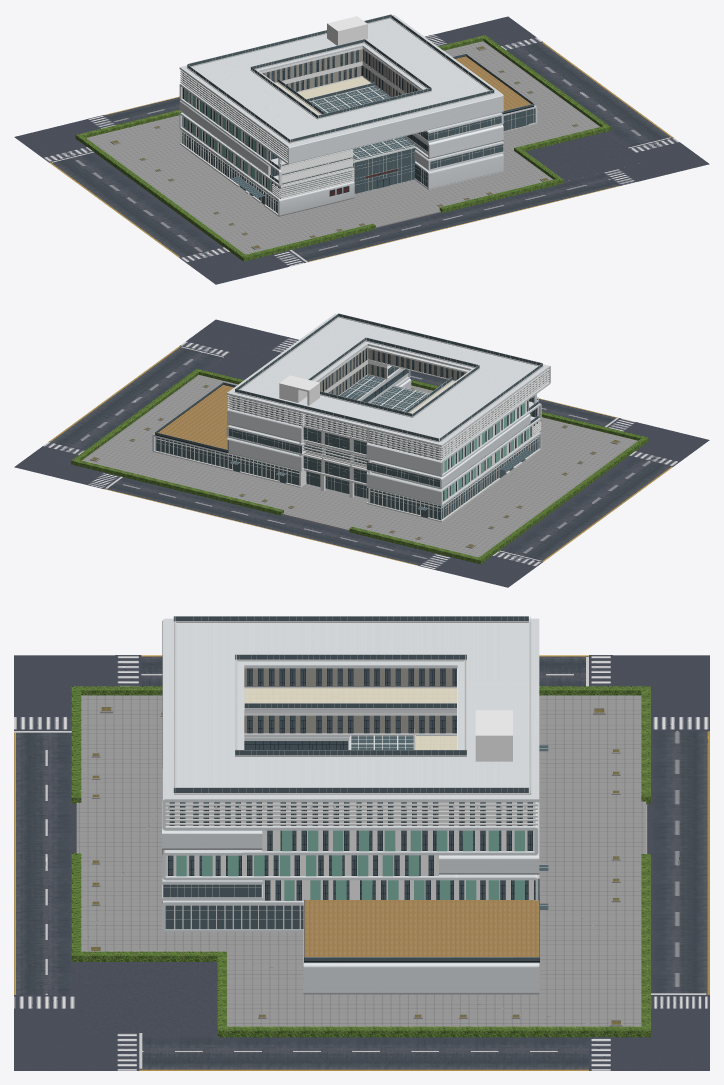
The model's file is Outer.FBX.
3 renders of one model, top to bottom at view 1: azimuth 30°, elevation 25°; view 2: azimuth 150°, elevation 25°; view 3: azimuth 270°, elevation 25°, orthographic. The views are drawn at different scales.
Parts seen in each view (by area): view 1: Outter01, Outter02, Outter11, Outter58, Outter05, Outter09, Outter03, Outter14, Outter07, Object001, Outter08, Outter17 (+8 smaller); view 2: Outter01, Outter02, Outter11, Outter09, Outter58, Outter03, Outter14, Outter07, Outter05, Outter52, Outter18, Outter08 (+7 smaller); view 3: Outter01, Outter02, Outter58, Outter11, Outter05, Outter03, Outter18, Outter14, Object001, Outter09, Outter56, Outter16 (+11 smaller).
Part boxes in pixels (<box>): Outter01: <box>14,16,709,284</box>; Outter02: <box>86,41,599,254</box>; Outter11: <box>182,14,535,212</box>; Outter58: <box>179,14,479,130</box>; Outter05: <box>343,77,503,189</box>; Outter09: <box>179,70,534,213</box>; Outter03: <box>75,35,610,261</box>; Outter14: <box>182,16,420,199</box>; Outter07: <box>179,83,363,171</box>; Object001: <box>526,132,646,181</box>; Outter08: <box>179,112,354,216</box>; Outter17: <box>264,49,418,97</box>; Outter01: <box>14,319,709,587</box>; Outter02: <box>82,375,637,557</box>; Outter11: <box>155,314,546,520</box>; Outter09: <box>155,367,549,522</box>; Outter58: <box>226,330,527,446</box>; Outter03: <box>71,369,648,564</box>; Outter14: <box>229,346,548,503</box>; Outter07: <box>366,350,550,477</box>; Outter05: <box>226,313,471,455</box>; Outter52: <box>227,408,304,471</box>; Outter18: <box>158,385,233,452</box>; Outter08: <box>366,416,541,505</box>; Outter01: <box>14,655,709,1070</box>; Outter02: <box>76,695,646,1026</box>; Outter58: <box>244,618,539,802</box>; Outter11: <box>163,616,548,960</box>; Outter05: <box>162,681,539,931</box>; Outter03: <box>71,686,650,1037</box>; Outter18: <box>304,900,539,956</box>; Outter14: <box>165,668,535,900</box>; Object001: <box>77,962,217,1032</box>; Outter09: <box>163,735,547,929</box>; Outter56: <box>303,902,539,994</box>; Outter16: <box>176,830,524,900</box>.
Bounding box in the file's own units: 170 × 30.79 × 120.
Materials: 26 (22 with a texture image).
